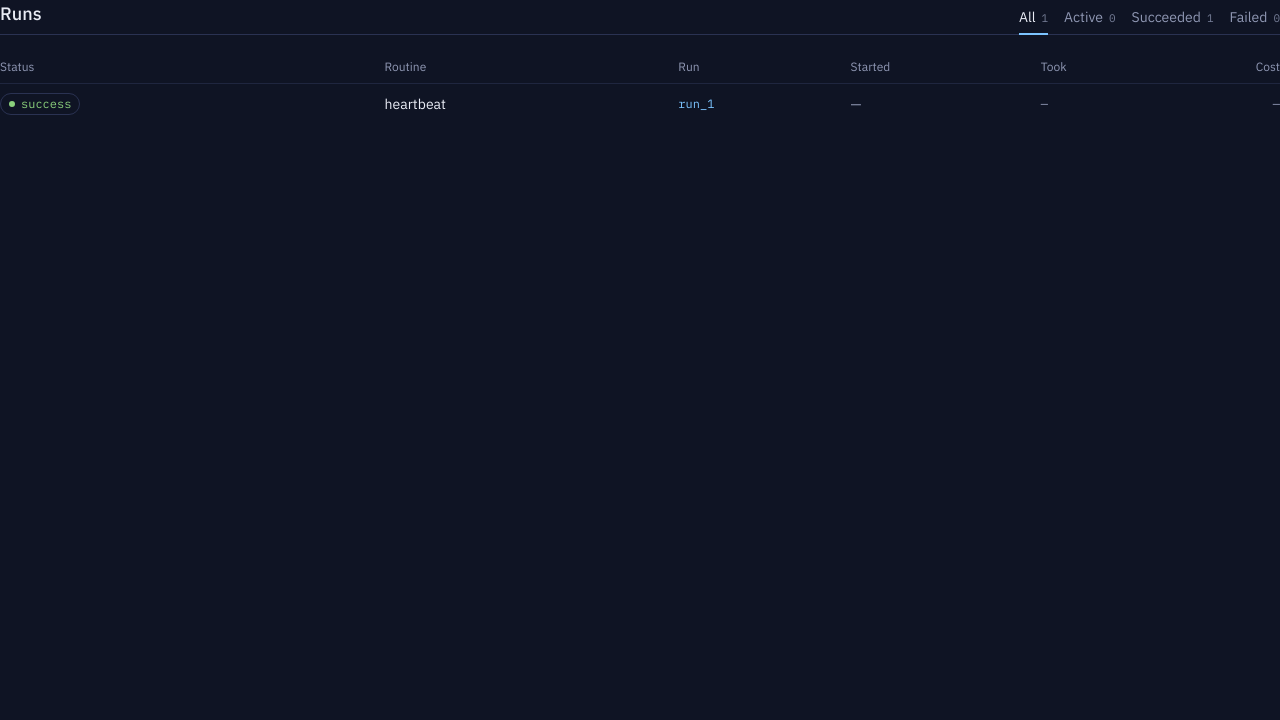
RunsPanel › lists runs and opens the stream on click
Click the text "run_1" at point(696, 103), box [678,84,851,123]
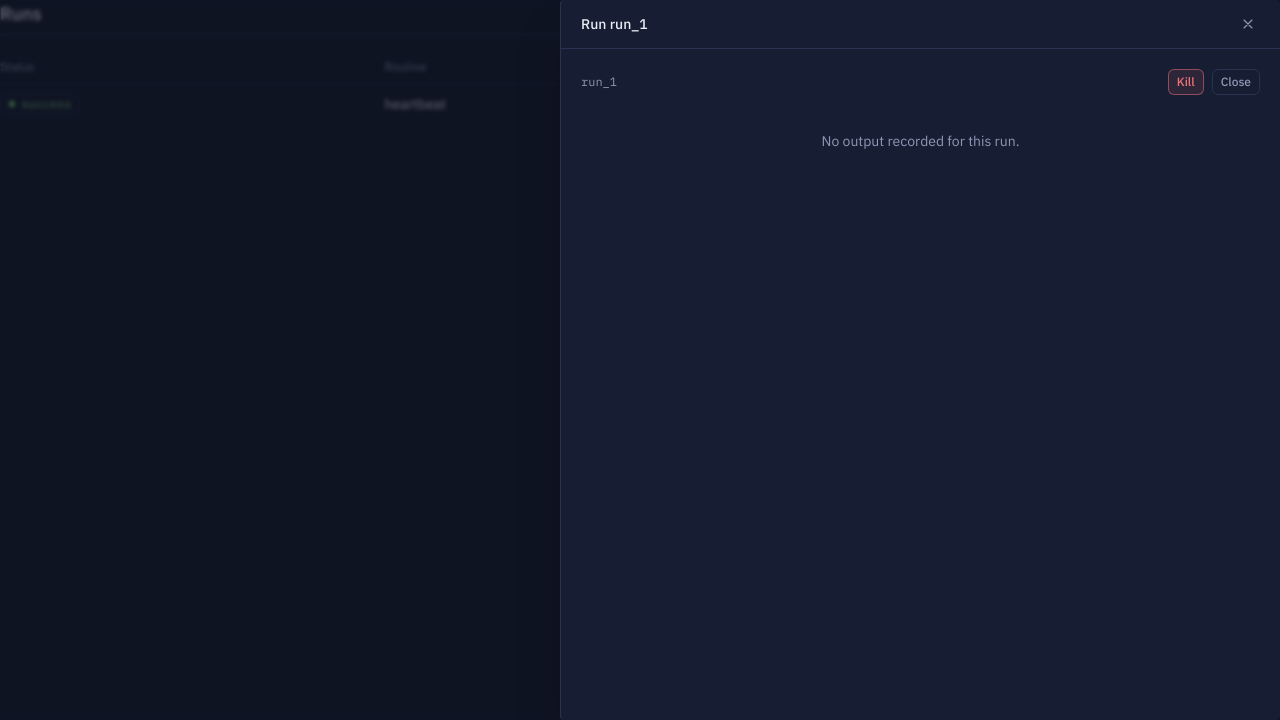
Expected: the button "Kill" is shown, [1168,69,1204,95]
